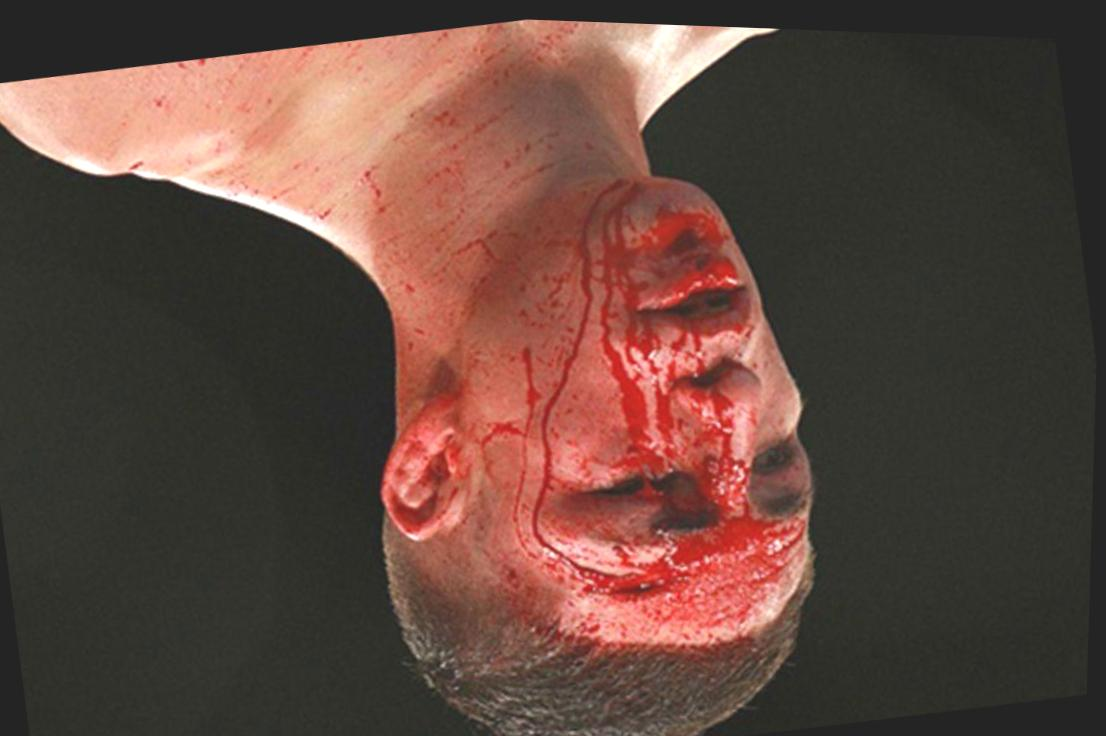Fire: (465, 160, 812, 641)
